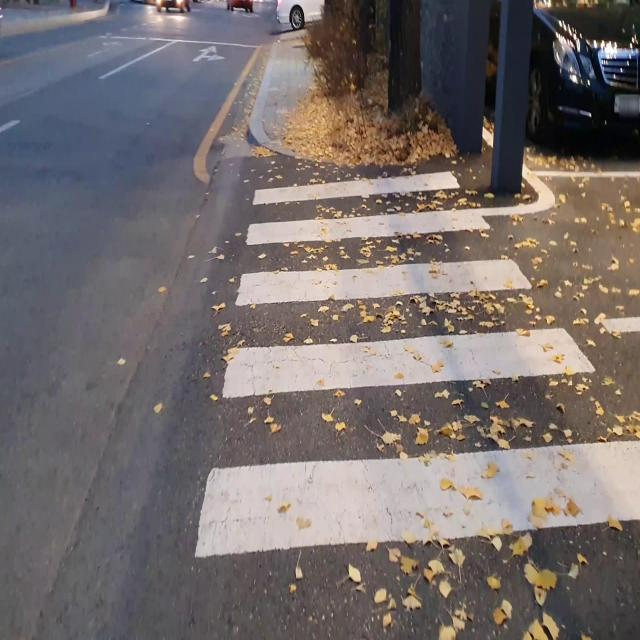crosswalk: (181, 169, 640, 639)
